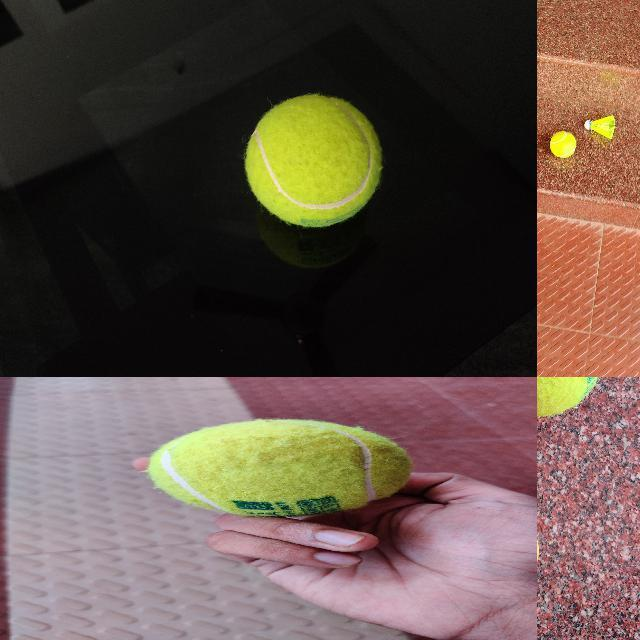tennis-ball: (146, 419, 413, 518), (244, 94, 382, 226), (549, 131, 575, 158)
